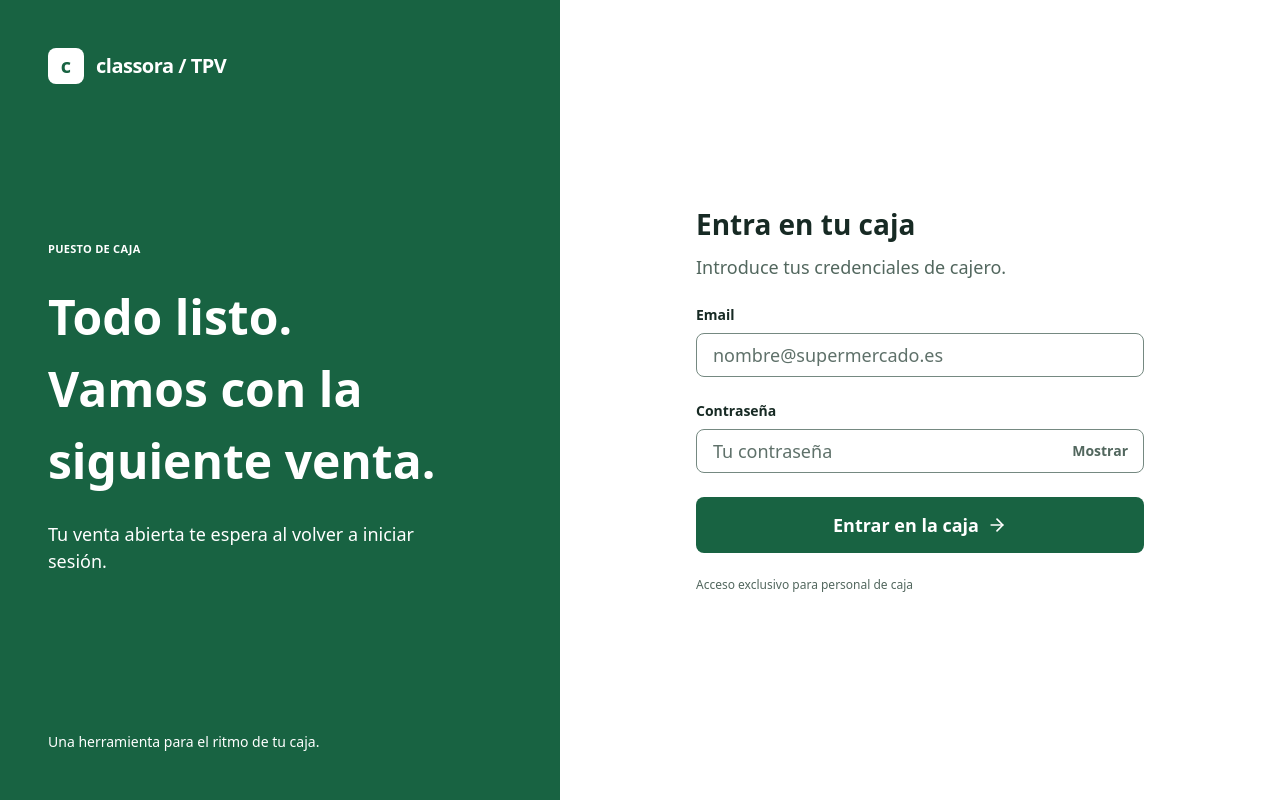
Auth: Login Screen Integration › L-01: should sign in, store the session and open the checkout with the cashier name
Expected: the heading "Entra en tu caja" is shown, [696, 205, 915, 243]
In the field labelled "Email": (920, 355) [696, 333, 1144, 377], type "cajero@pos.local"
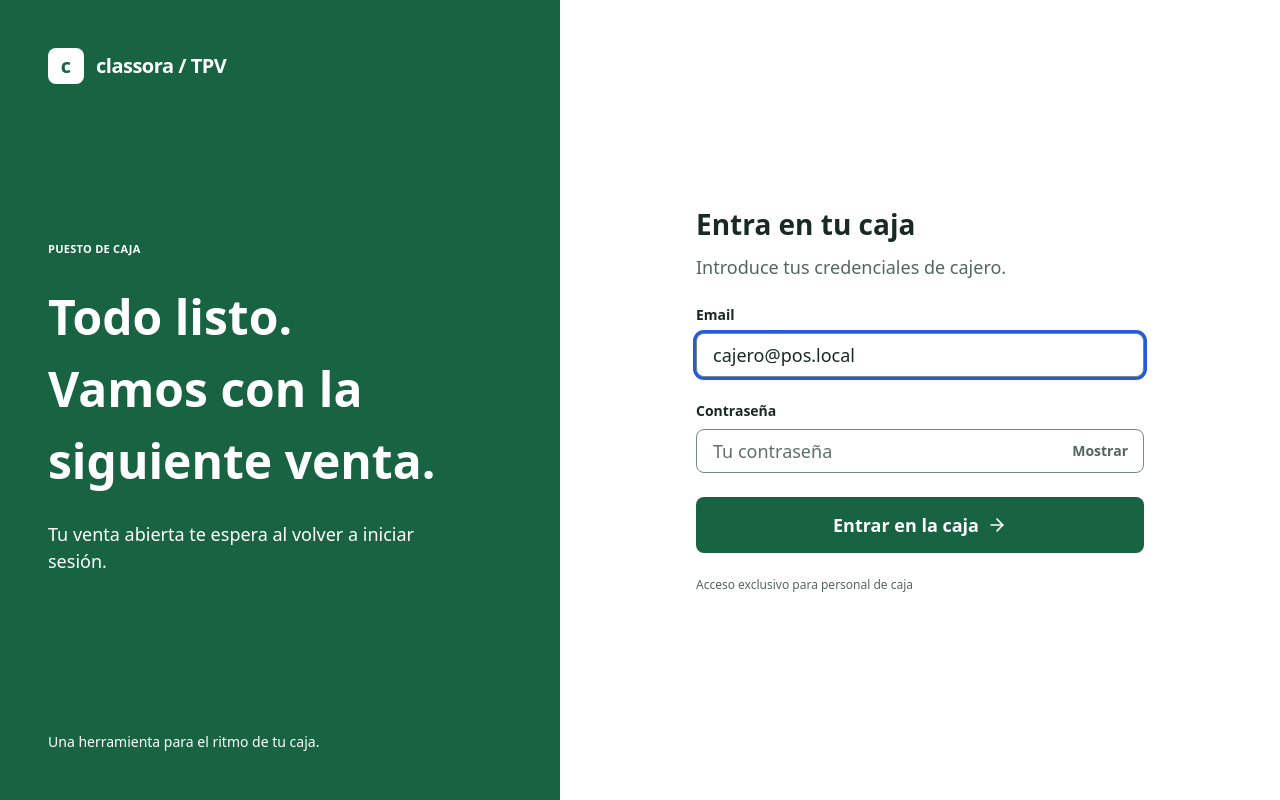
In the password field labelled "Contraseña": (920, 451) [696, 429, 1144, 473], type "cajero1234"
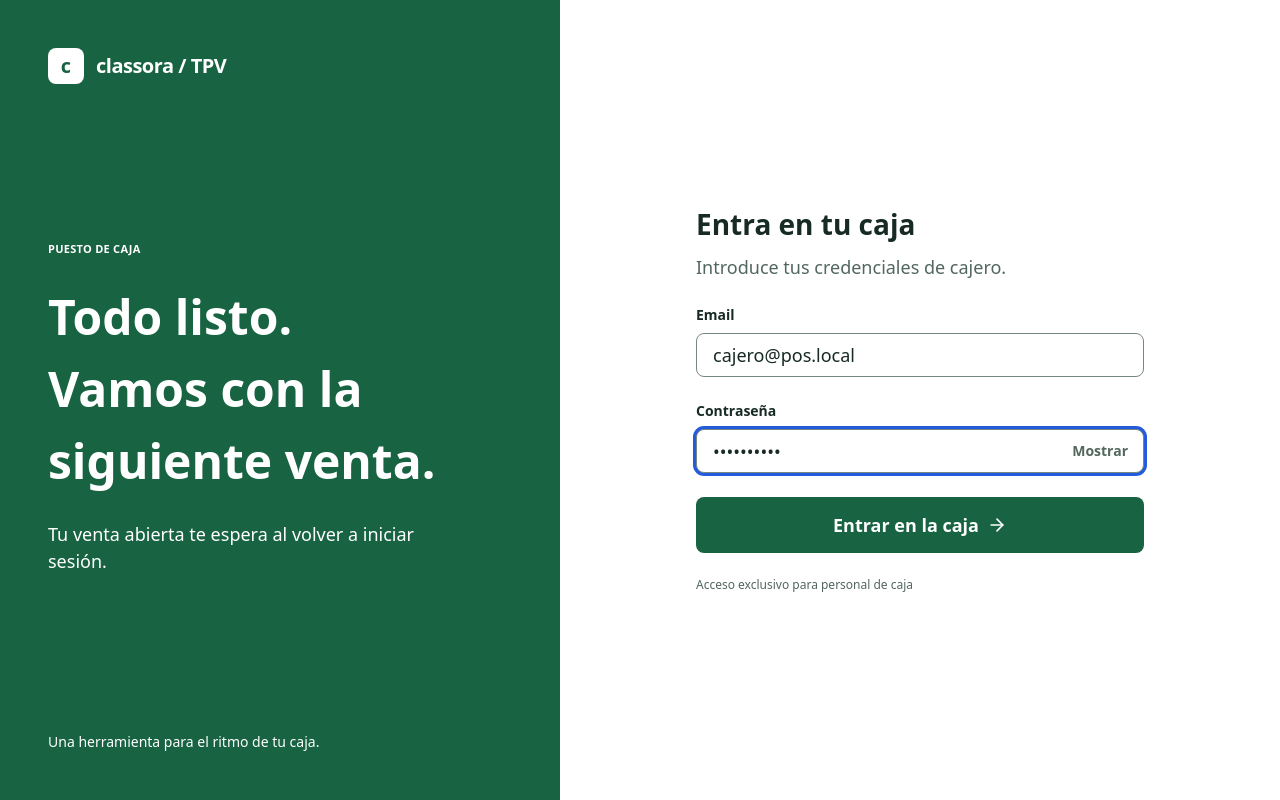
Click the button "Entrar en la caja": (920, 525) [696, 497, 1144, 553]
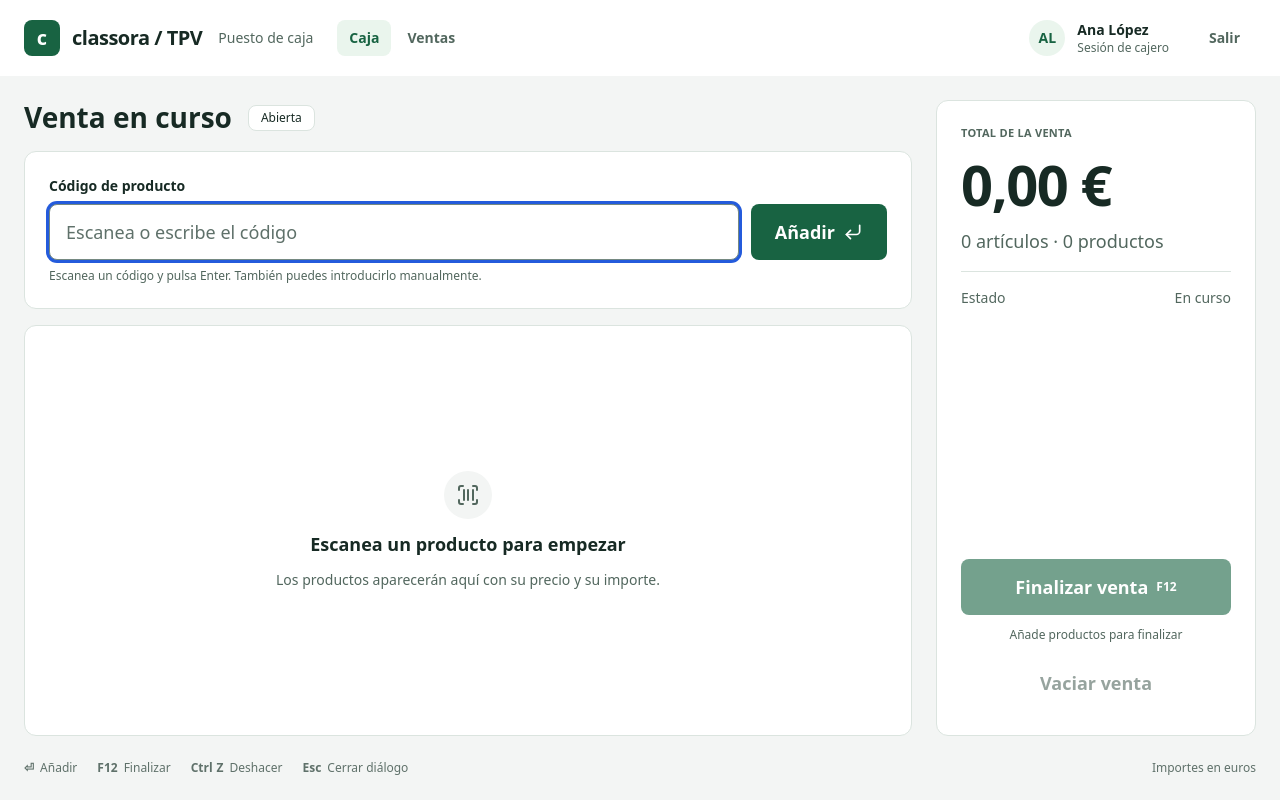
Expected: the heading "Venta en curso" is shown, [24, 100, 232, 135]
Expected: the text "Ana López" is shown, [1077, 20, 1149, 39]
